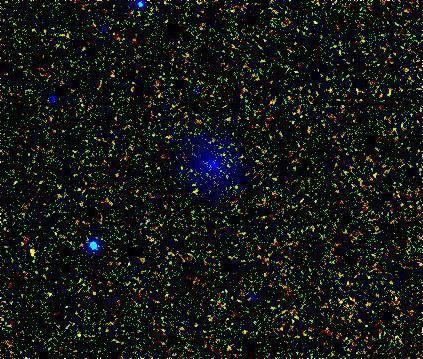star: (18, 237, 48, 267)
